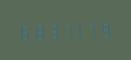eight: (31, 21, 44, 40)
nine: (101, 18, 114, 38)
one: (73, 19, 86, 39)
seven: (59, 20, 72, 39), (87, 19, 100, 38)
six: (17, 21, 30, 41)
three: (45, 20, 58, 40)
